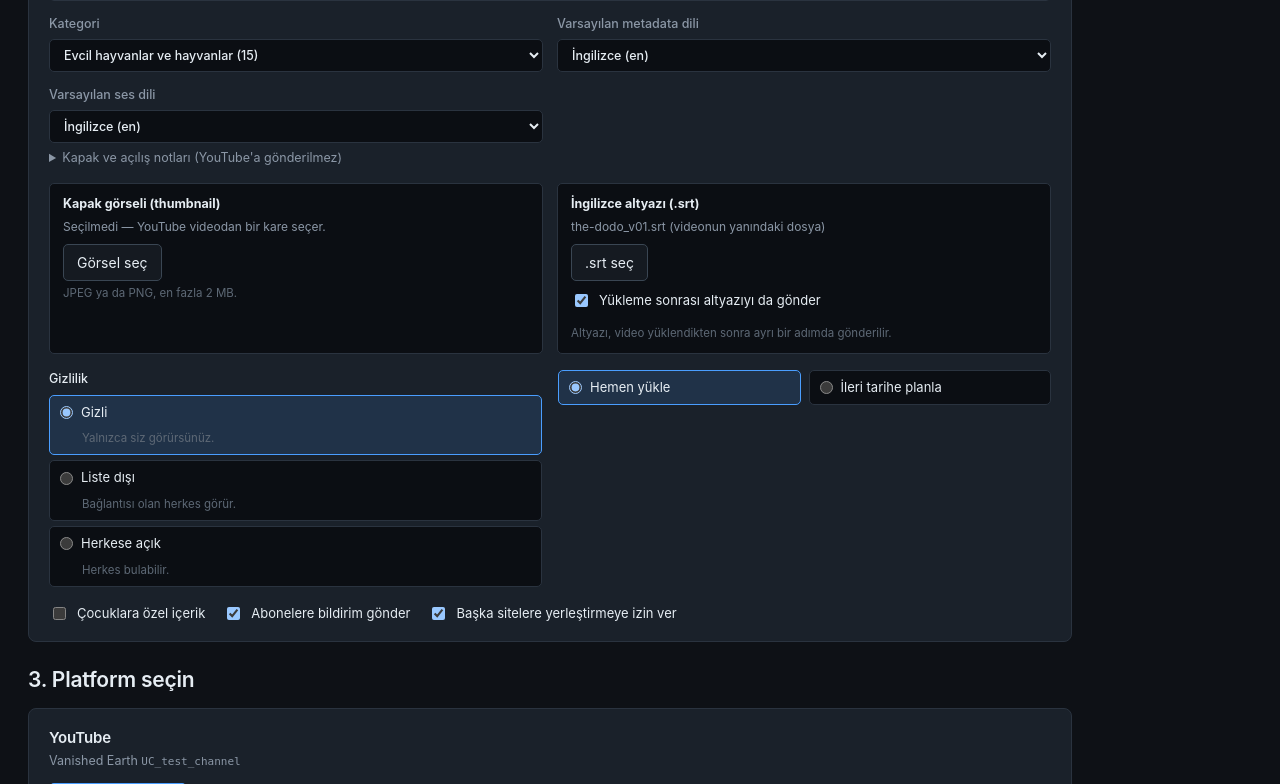
Scenario: metadata editing › shows the date field only when scheduling is chosen
(page scrolled)
Expected: the field labelled "Planlanan tarih ve saat" is not shown
Click the radio button labelled "İleri tarihe planla": (826, 388) [820,381,832,394]
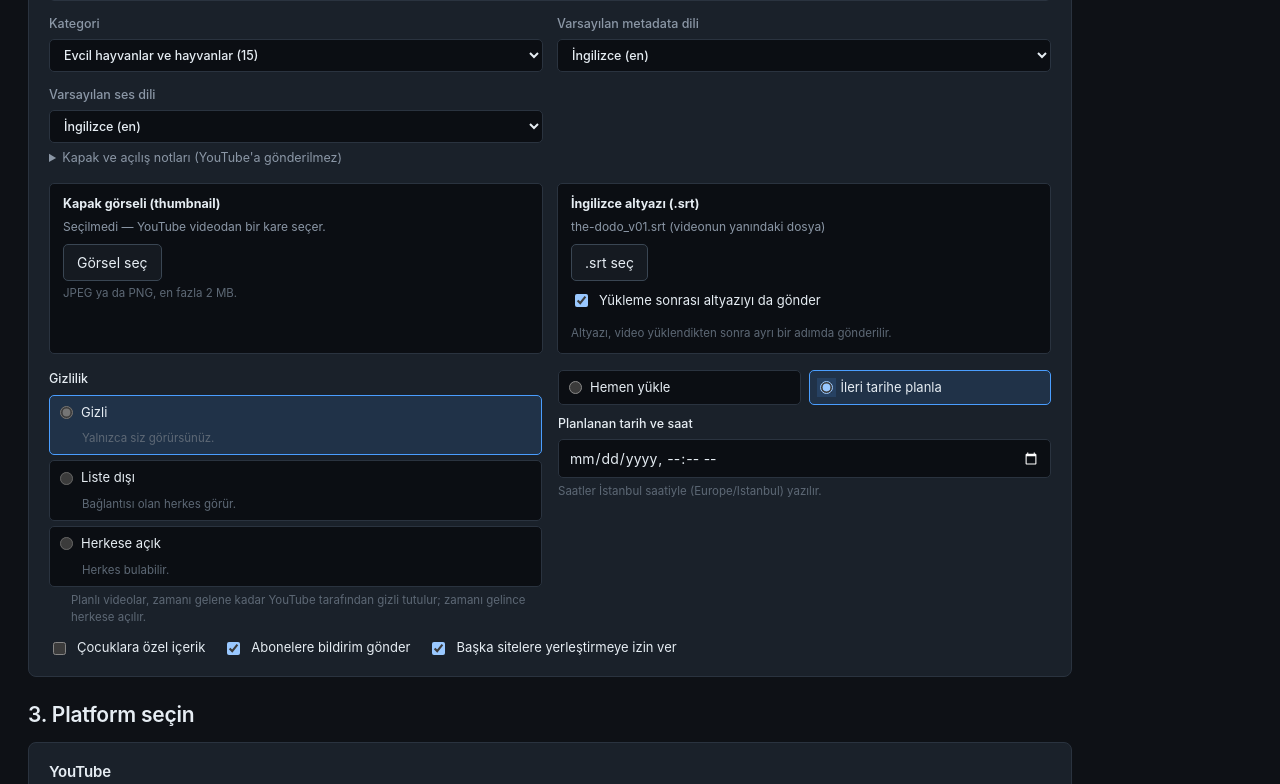
Expected: the field labelled "Planlanan tarih ve saat" is shown, [558,439,1051,478]
Expected: the text "Saatler İstanbul saatiyle (Europe/Istanbul) yazılır." is shown, [558,484,822,498]
